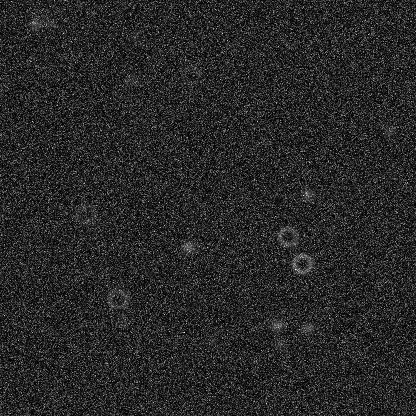Ring: (179, 63, 203, 87), (290, 251, 314, 275), (73, 202, 97, 226), (106, 286, 130, 310), (276, 224, 300, 248)
Spot: (323, 224, 339, 240), (272, 336, 288, 352), (124, 70, 140, 86), (381, 122, 397, 138), (40, 14, 56, 30), (299, 319, 315, 335), (203, 331, 219, 347), (180, 238, 196, 254), (27, 15, 43, 31), (299, 186, 315, 202), (114, 313, 130, 329), (126, 30, 142, 46), (268, 317, 284, 333), (234, 190, 250, 206)
